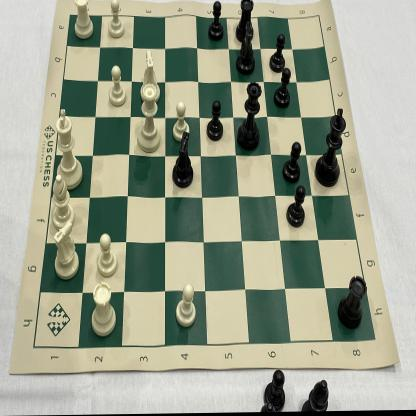black-king: (310, 105, 348, 189)
black-knight: (170, 131, 196, 192), (236, 20, 256, 76)
black-pawn: (282, 141, 304, 186), (286, 185, 306, 230), (268, 31, 288, 75), (204, 99, 224, 143), (207, 0, 226, 44), (274, 67, 292, 112)
black-queen: (234, 80, 263, 154)
black-rook: (336, 272, 368, 331), (234, 0, 258, 44)
white-bishop: (90, 281, 118, 340), (48, 173, 76, 231)
white-king: (52, 107, 84, 193)
white-knight: (50, 220, 81, 280), (139, 46, 161, 104)
white-pawn: (92, 231, 120, 280), (171, 280, 198, 330), (106, 63, 128, 109), (105, 0, 126, 41), (171, 100, 190, 145)
white-queen: (132, 84, 164, 156)
white-rook: (69, 0, 97, 42)
